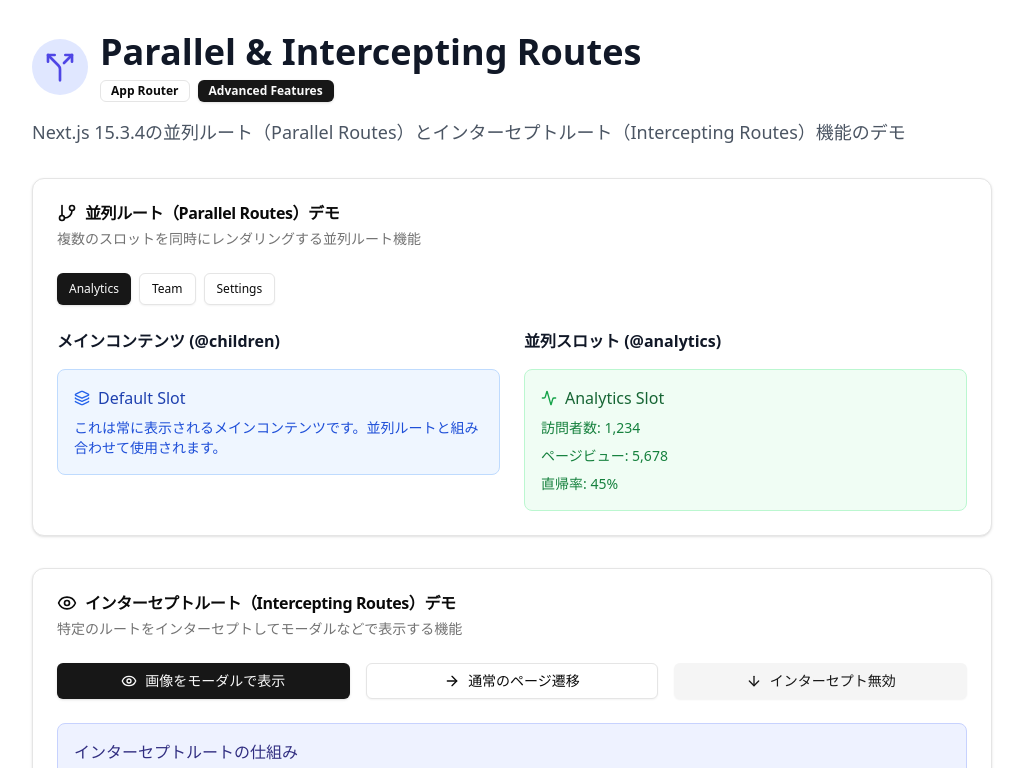
Scenario: Parallel & Intercepting Routes Page › モーダル表示ボタンが動作すべき
//  モーダルを開く
Click the button "画像をモーダルで表示" at (203, 681), box left=57, top=663, right=350, bottom=699
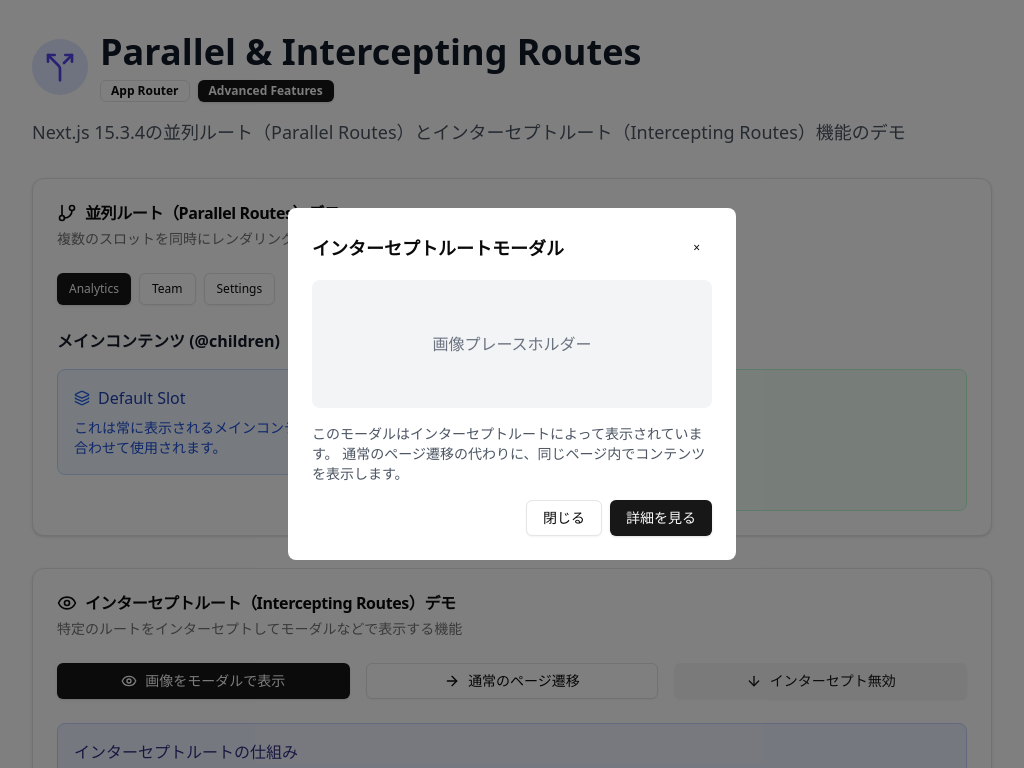
expect the heading "インターセプトルートモーダル" is shown: met, box left=312, top=234, right=564, bottom=262
expect the text "画像プレースホルダー" is shown: met, box left=432, top=332, right=592, bottom=356
// モーダルを閉じる
Click the button "閉じる" at (564, 518), box left=526, top=500, right=602, bottom=536
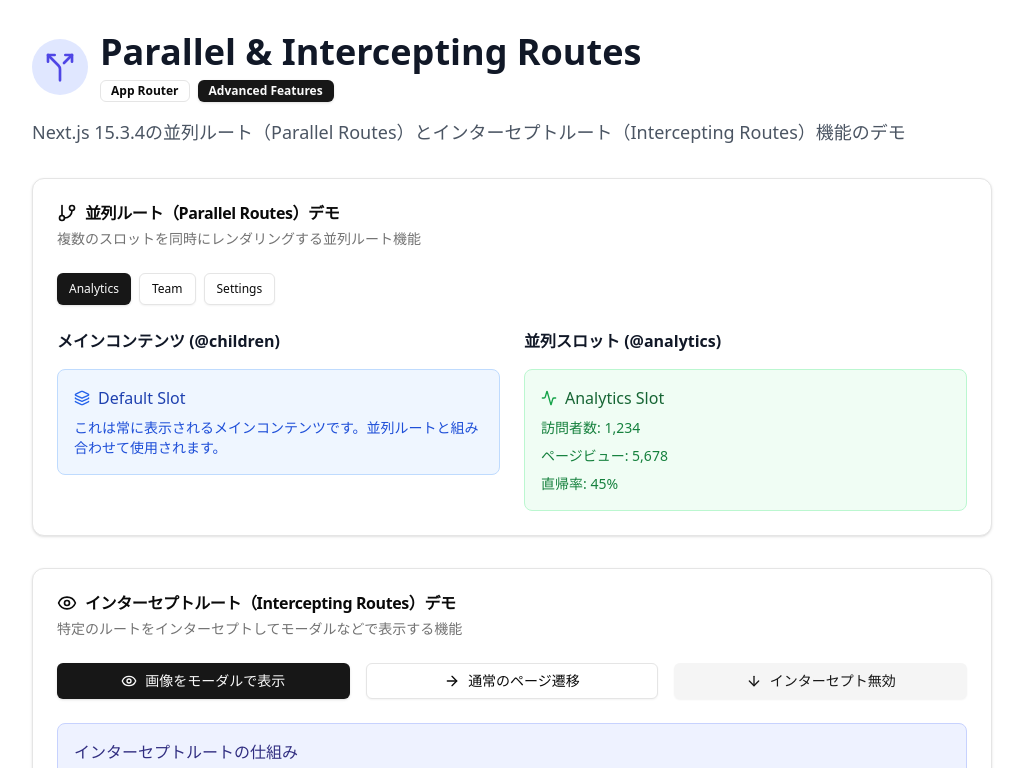
expect the heading "インターセプトルートモーダル" is gone: met
